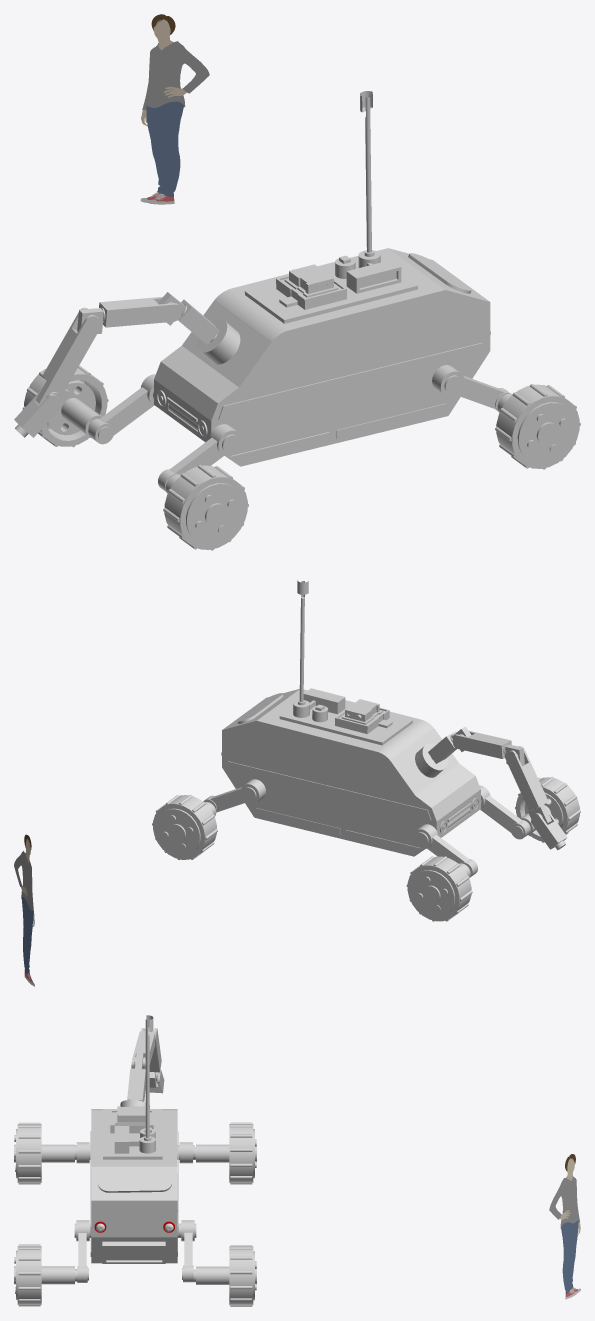
File: agricultural_robot.glb
3 renders of one model, top to bottom at view 1: azimuth 30°, elevation 25°; view 2: azimuth 150°, elevation 25°; view 3: azimuth 270°, elevation 25°, orthographic. The views are drawn at different scales.
Parts seen in each view (by area): view 1: Mesh17_FrontColor_0, Mesh3_FrontColor_0, Mesh9_FrontColor_0, Mesh6_FrontColor_0, Mesh1_Stacy_Shirt_0, Mesh1_Stacy_Pants_0, Mesh13_FrontColor_0, Mesh7_FrontColor_0, Mesh15_FrontColor_0, Mesh11_FrontColor_0, Mesh4_FrontColor_0, Mesh2_FrontColor_0 (+1 smaller); view 2: Mesh17_FrontColor_0, Mesh6_FrontColor_0, Mesh8_FrontColor_0, Mesh3_FrontColor_0, Mesh13_FrontColor_0, Mesh7_FrontColor_0, Mesh15_FrontColor_0, Mesh4_FrontColor_0, Mesh11_FrontColor_0, Mesh5_FrontColor_0, Mesh16_FrontColor_0, Mesh1_Stacy_Shirt_0 (+1 smaller); view 3: Mesh17_FrontColor_0, Mesh9_FrontColor_0, Mesh6_FrontColor_0, Mesh8_FrontColor_0, Mesh3_FrontColor_0, Mesh1_Stacy_Shirt_0, Mesh1_Stacy_Pants_0, Mesh2_FrontColor_0, Mesh5_FrontColor_0, Mesh15_FrontColor_0, Mesh11_FrontColor_0, Mesh4_FrontColor_0.
Part boxes in pixels (x1,y1,x2,y2): Mesh17_FrontColor_0: (154, 91, 490, 466); Mesh3_FrontColor_0: (163, 465, 248, 550); Mesh9_FrontColor_0: (495, 384, 580, 469); Mesh6_FrontColor_0: (22, 365, 108, 447); Mesh1_Stacy_Shirt_0: (142, 41, 209, 110); Mesh1_Stacy_Pants_0: (146, 101, 183, 197); Mesh13_FrontColor_0: (42, 307, 101, 390); Mesh7_FrontColor_0: (88, 374, 197, 444); Mesh15_FrontColor_0: (178, 299, 240, 364); Mesh11_FrontColor_0: (99, 297, 181, 327); Mesh4_FrontColor_0: (158, 424, 242, 491); Mesh2_FrontColor_0: (432, 365, 510, 411); Mesh17_FrontColor_0: (221, 580, 480, 856); Mesh6_FrontColor_0: (406, 856, 472, 921); Mesh8_FrontColor_0: (152, 795, 217, 859); Mesh3_FrontColor_0: (515, 776, 580, 842); Mesh13_FrontColor_0: (504, 746, 548, 810); Mesh7_FrontColor_0: (413, 800, 481, 877); Mesh15_FrontColor_0: (415, 731, 456, 777); Mesh4_FrontColor_0: (479, 785, 530, 839); Mesh11_FrontColor_0: (452, 731, 511, 758); Mesh5_FrontColor_0: (203, 779, 265, 812); Mesh16_FrontColor_0: (531, 810, 567, 850); Mesh1_Stacy_Shirt_0: (14, 851, 34, 914); Mesh17_FrontColor_0: (90, 1015, 178, 1263); Mesh9_FrontColor_0: (14, 1244, 77, 1306); Mesh6_FrontColor_0: (194, 1122, 256, 1184); Mesh8_FrontColor_0: (193, 1245, 256, 1306); Mesh3_FrontColor_0: (14, 1122, 74, 1184); Mesh1_Stacy_Shirt_0: (549, 1175, 579, 1228); Mesh1_Stacy_Pants_0: (561, 1220, 578, 1294); Mesh2_FrontColor_0: (74, 1220, 179, 1282); Mesh5_FrontColor_0: (177, 1220, 196, 1282); Mesh15_FrontColor_0: (120, 1068, 149, 1108); Mesh11_FrontColor_0: (131, 1031, 155, 1069); Mesh4_FrontColor_0: (74, 1142, 179, 1163).
Bounding box in the file's own units: 4.82 × 3.26 × 6.63.
